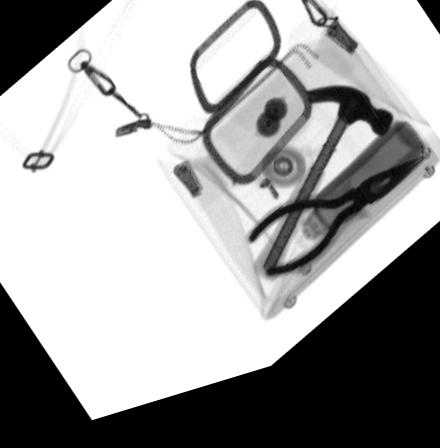Hammer: (251, 104, 393, 299)
Pliers: (245, 180, 424, 294)
